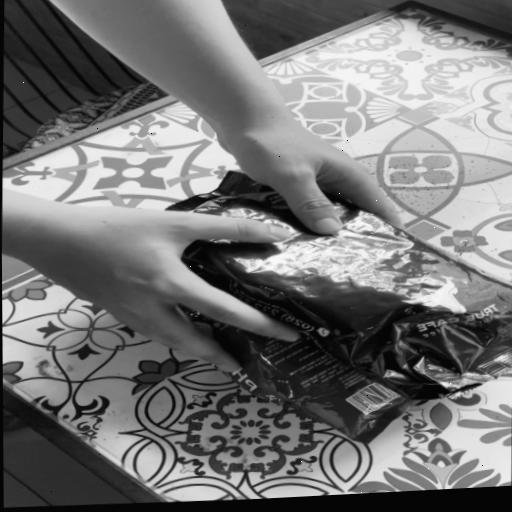cafe_hat: (168, 172, 512, 400)
cafe_xay: (185, 309, 418, 444)
